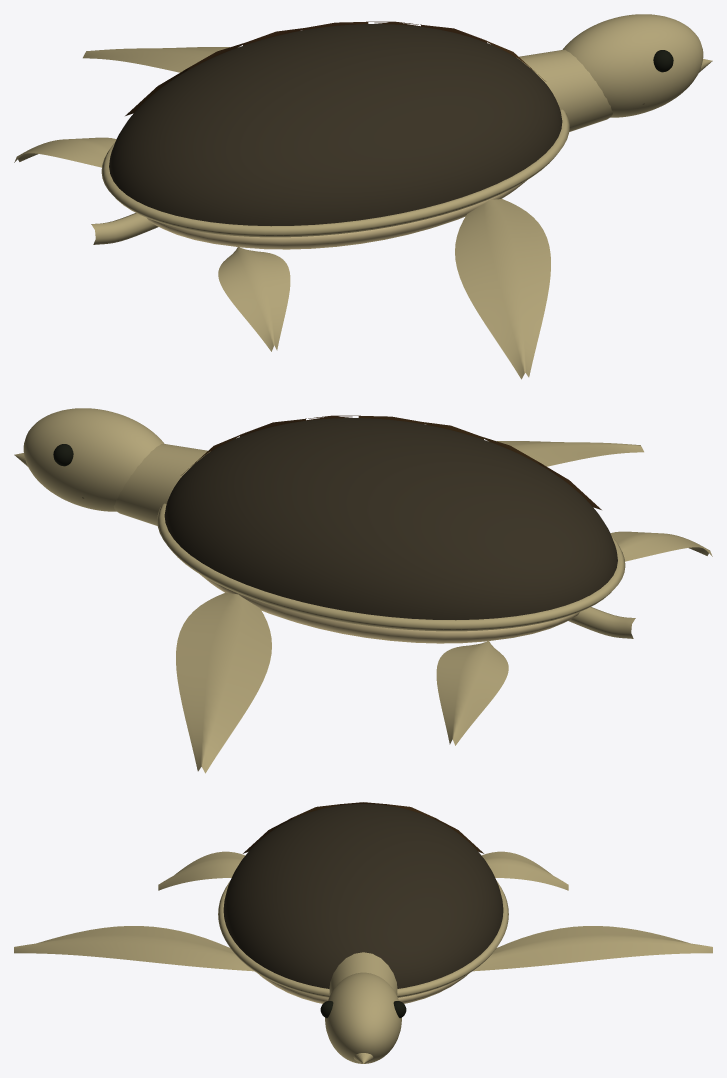
The model's file is turtle-anatomical.glb.
The picture shows the model from 3 angles, top to bottom: view 1: azimuth 30°, elevation 25°; view 2: azimuth 150°, elevation 25°; view 3: azimuth 270°, elevation 25°; orthographic projection. The views are drawn at different scales.
Parts seen in each view (by area): view 1: CarapaceUnderlay, ScaledFlipper (×4), BeakedHead, MarginalScutes, Plastron, WrinkledNeck, RaisedScutePlates, Tail; view 2: CarapaceUnderlay, ScaledFlipper (×4), BeakedHead, MarginalScutes, Plastron, WrinkledNeck, RaisedScutePlates, Tail; view 3: CarapaceUnderlay, ScaledFlipper (×4), BeakedHead, MarginalScutes, WrinkledNeck, Plastron, RaisedScutePlates.
Boxes of the visible parts, bbox=[...] form: CarapaceUnderlay: bbox=[109, 24, 562, 226]; ScaledFlipper (×4): bbox=[14, 47, 550, 379]; BeakedHead: bbox=[562, 14, 703, 117]; MarginalScutes: bbox=[101, 109, 569, 237]; Plastron: bbox=[147, 180, 526, 249]; WrinkledNeck: bbox=[516, 50, 613, 131]; RaisedScutePlates: bbox=[125, 21, 545, 115]; Tail: bbox=[91, 213, 158, 244]; CarapaceUnderlay: bbox=[164, 418, 617, 620]; ScaledFlipper (×4): bbox=[176, 441, 712, 773]; BeakedHead: bbox=[23, 408, 164, 511]; MarginalScutes: bbox=[157, 503, 625, 631]; Plastron: bbox=[200, 574, 579, 643]; WrinkledNeck: bbox=[113, 444, 210, 525]; RaisedScutePlates: bbox=[181, 415, 601, 509]; Tail: bbox=[568, 607, 635, 638]; CarapaceUnderlay: bbox=[223, 804, 503, 988]; ScaledFlipper (×4): bbox=[14, 851, 712, 971]; BeakedHead: bbox=[325, 972, 401, 1063]; MarginalScutes: bbox=[218, 880, 508, 997]; WrinkledNeck: bbox=[329, 952, 397, 995]; Plastron: bbox=[259, 974, 467, 1003]; RaisedScutePlates: bbox=[243, 802, 483, 853].
Bounding box in the file's own units: 4.17 × 1.03 × 5.08.
